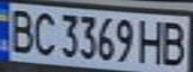3: (54, 10, 81, 58), (75, 12, 100, 61)
6: (93, 14, 118, 62)
9: (112, 16, 139, 63)
B: (3, 6, 39, 55), (157, 18, 190, 66)
C: (30, 8, 60, 57)
H: (136, 16, 166, 65)
